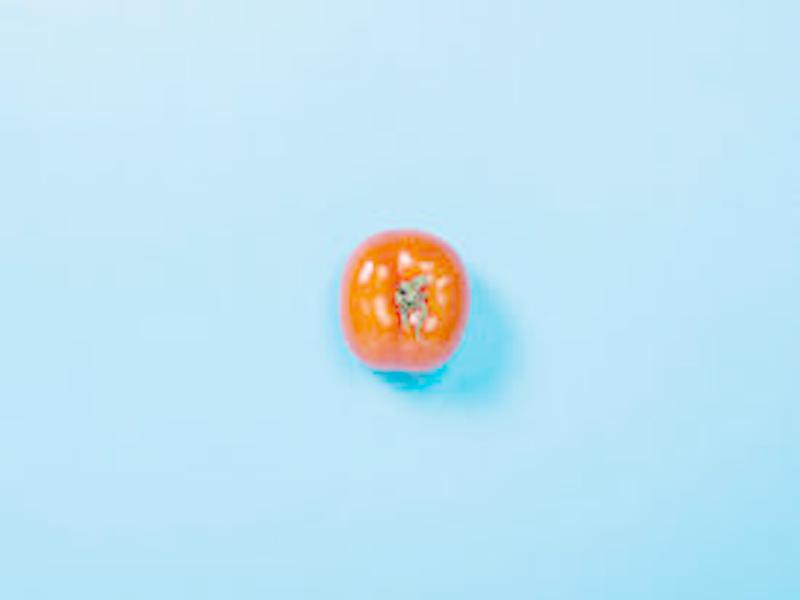Tomato: (340, 226, 474, 370)
